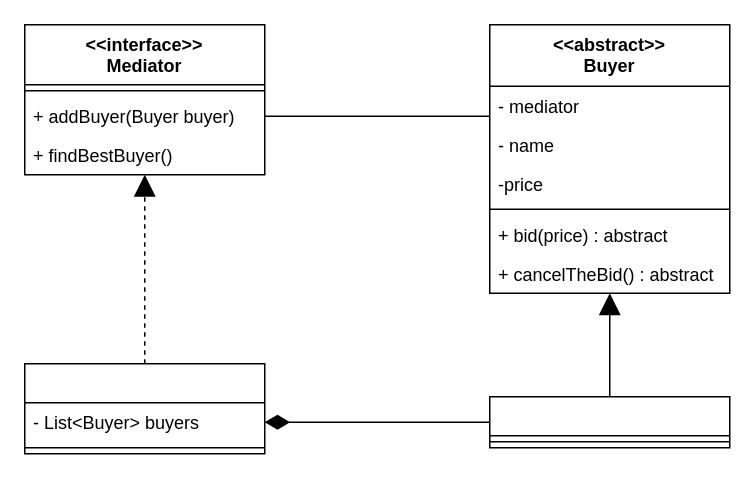
Some shapes in this 755 by 479 pixel diagram are drawn without their labels. The box of each missing label's shape, as (x1, y1, x2, y2) in pixels:
AuctionBuyer: (488, 395, 730, 448)
AuctionMediator: (23, 362, 265, 454)
